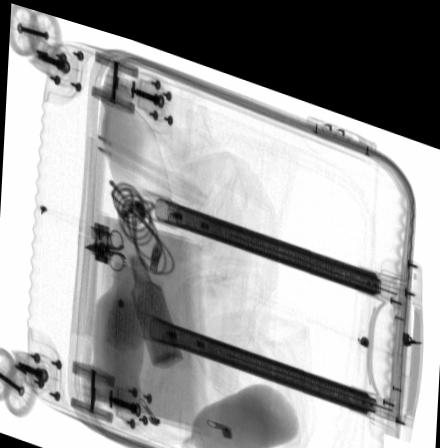Scissors: (85, 222, 129, 265)
